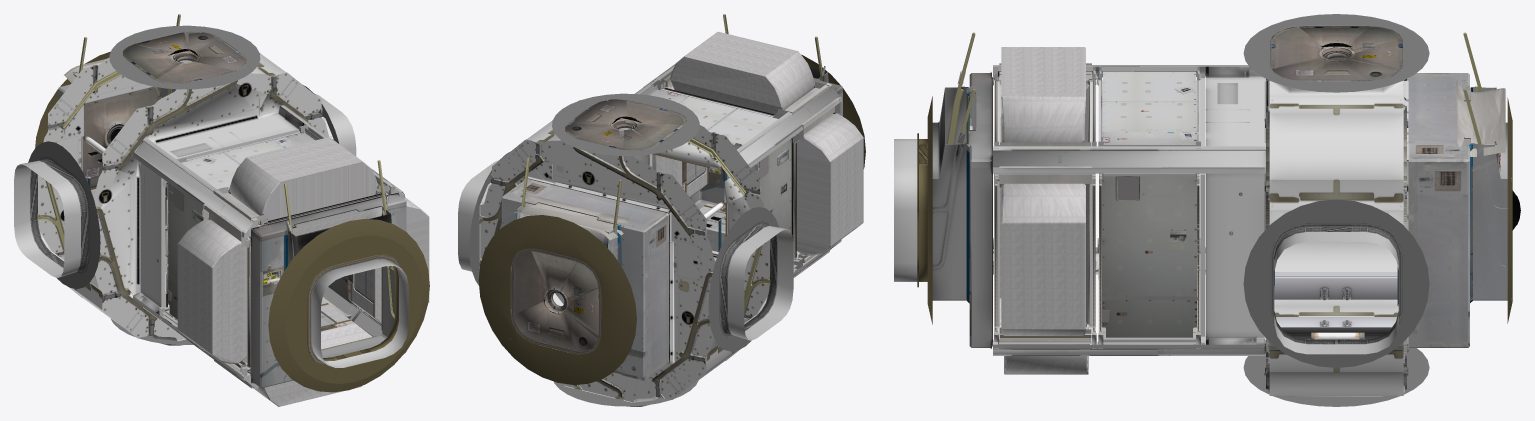
3 renders of one model, left to right at view 1: azimuth 30°, elevation 25°; view 2: azimuth 150°, elevation 25°; view 3: azimuth 270°, elevation 25°, orthographic. The views are drawn at different scales.
Parts seen in each view (by area): view 1: Node2_Int_Hub_ZNH_Node2_Rack, Node2_Int_Hub_ZNH_Generic_Metals.001, Node2_Int_Hub_ZNH_Generic_Hub.001, Node2_Int_Hub_ZNH_Node2_Bulkhead, Node2_Int_Hub_ZNH_Generic_Misc_Details; view 2: Node2_Int_Hub_ZNH_Generic_Metals.001, Node2_Int_Hub_ZNH_Node2_Rack, Node2_Int_Hub_ZNH_Generic_Hub.001, Node2_Int_Hub_ZNH_Node2_Bulkhead, Node2_Int_Hub_ZNH_Generic_Misc_Details; view 3: Node2_Int_Hub_ZNH_Node2_Rack, Node2_Int_Hub_ZNH_Node2_Bulkhead, Node2_Int_Hub_ZNH_Generic_Hub.001, Node2_Int_Hub_ZNH_Generic_Metals.001, Node2_Int_Hub_ZNH_Generic_Misc_Details.
Part boxes in pixels (x1=…): Node2_Int_Hub_ZNH_Node2_Rack: x1=133, y1=105, x2=429, y2=406; Node2_Int_Hub_ZNH_Generic_Metals.001: x1=28, y1=14, x2=429, y2=392; Node2_Int_Hub_ZNH_Generic_Hub.001: x1=38, y1=32, x2=333, y2=341; Node2_Int_Hub_ZNH_Node2_Bulkhead: x1=58, y1=49, x2=406, y2=388; Node2_Int_Hub_ZNH_Generic_Misc_Details: x1=14, y1=93, x2=408, y2=367; Node2_Int_Hub_ZNH_Generic_Metals.001: x1=469, y1=14, x2=865, y2=406; Node2_Int_Hub_ZNH_Node2_Rack: x1=634, y1=31, x2=863, y2=277; Node2_Int_Hub_ZNH_Generic_Hub.001: x1=479, y1=100, x2=769, y2=402; Node2_Int_Hub_ZNH_Node2_Bulkhead: x1=501, y1=66, x2=842, y2=380; Node2_Int_Hub_ZNH_Generic_Misc_Details: x1=458, y1=160, x2=793, y2=340; Node2_Int_Hub_ZNH_Node2_Rack: x1=993, y1=47, x2=1265, y2=374; Node2_Int_Hub_ZNH_Node2_Bulkhead: x1=928, y1=43, x2=1520, y2=348; Node2_Int_Hub_ZNH_Generic_Hub.001: x1=1264, y1=78, x2=1408, y2=396; Node2_Int_Hub_ZNH_Generic_Metals.001: x1=917, y1=14, x2=1512, y2=406; Node2_Int_Hub_ZNH_Generic_Misc_Details: x1=894, y1=139, x2=1398, y2=354.
Bounding box in the file's own units: 4.25 × 3.74 × 6.42.
